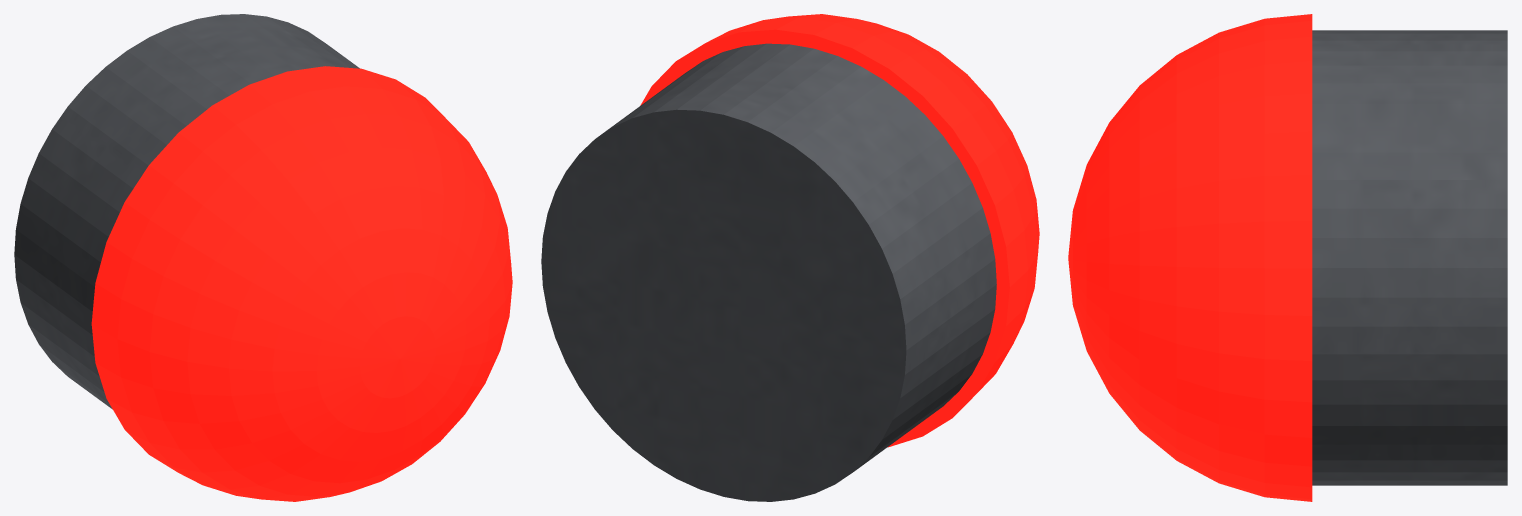
File: aviation_light_ok.glb
3 renders of one model, left to right at view 1: azimuth 30°, elevation 25°; view 2: azimuth 150°, elevation 25°; view 3: azimuth 270°, elevation 25°, orthographic. The views are drawn at different scales.
Visible parts, largest first — view 1: aviation_light_ok; view 2: aviation_light_ok; view 3: aviation_light_ok.
Boxes of the visible parts, x1,y1,x2,y2 form: aviation_light_ok: (14,14,512,501); aviation_light_ok: (541,14,1039,501); aviation_light_ok: (1068,14,1507,501).
Size of the model in its own units: 0.15 by 0.15 by 0.135.
2 materials, 1 textured.
